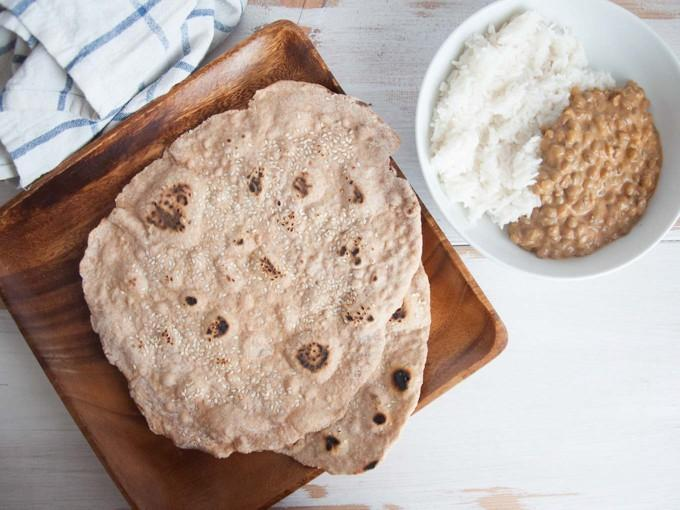chapati: (80, 81, 421, 457)
